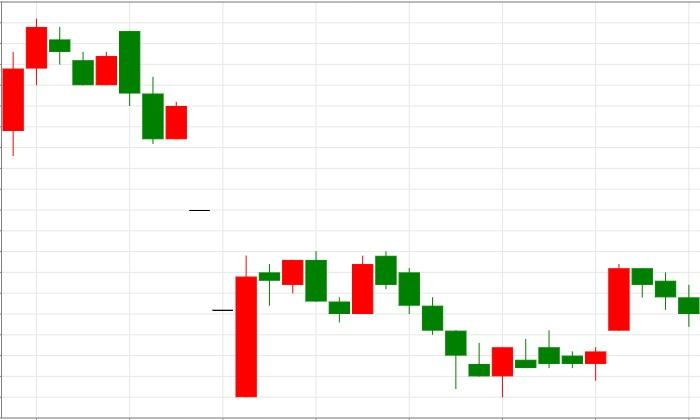bullish_engulfing_rise: (374, 250, 514, 398)
three_black_crows_fall: (491, 264, 700, 397)
